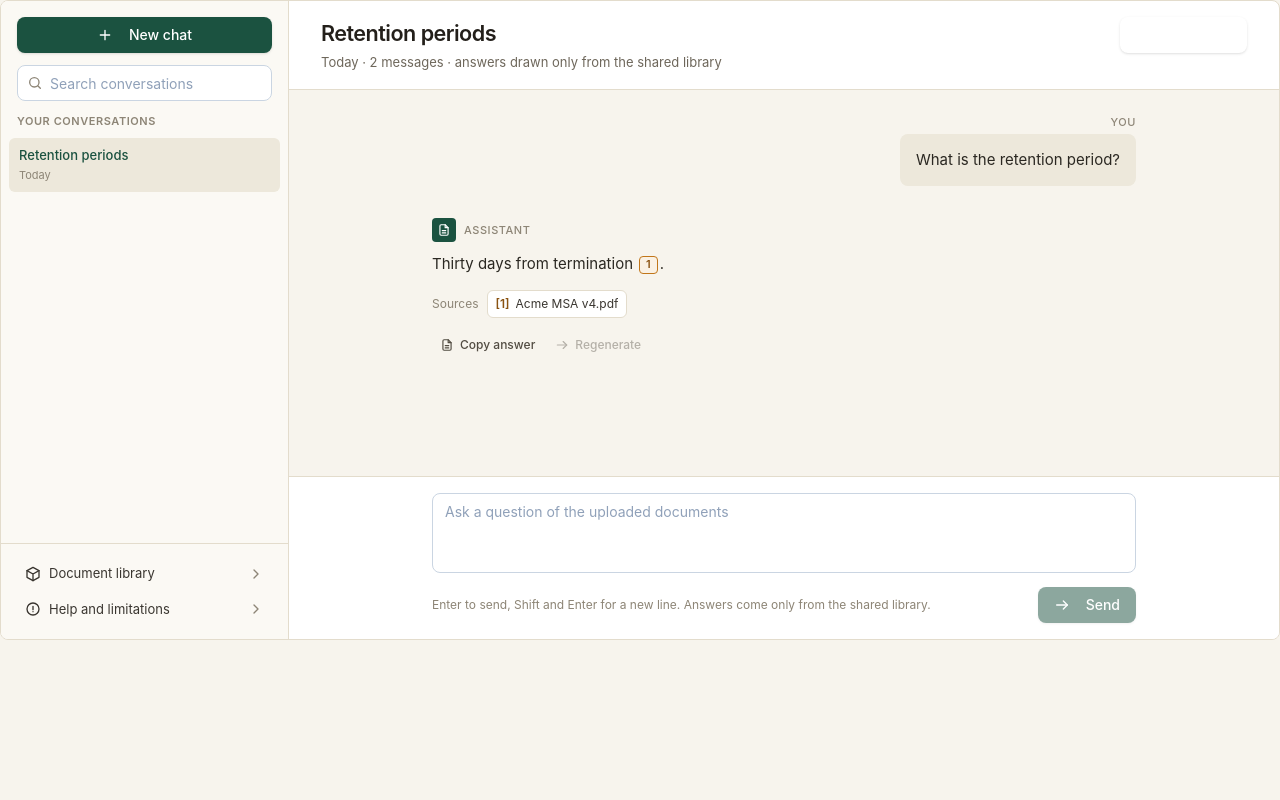
Test case: Chat screen › loads conversation history with citations from GET endpoints (persisted after reload)
This screenshot has width=1280, height=800.
Check: the text "What is the retention period?" is shown, box [900, 134, 1136, 186]
Check: the text "Thirty days from termination" is shown, box [432, 254, 637, 273]
Click the button named "Source 1: Acme MSA v4.pdf".
click(648, 265)  # box [639, 256, 658, 274]
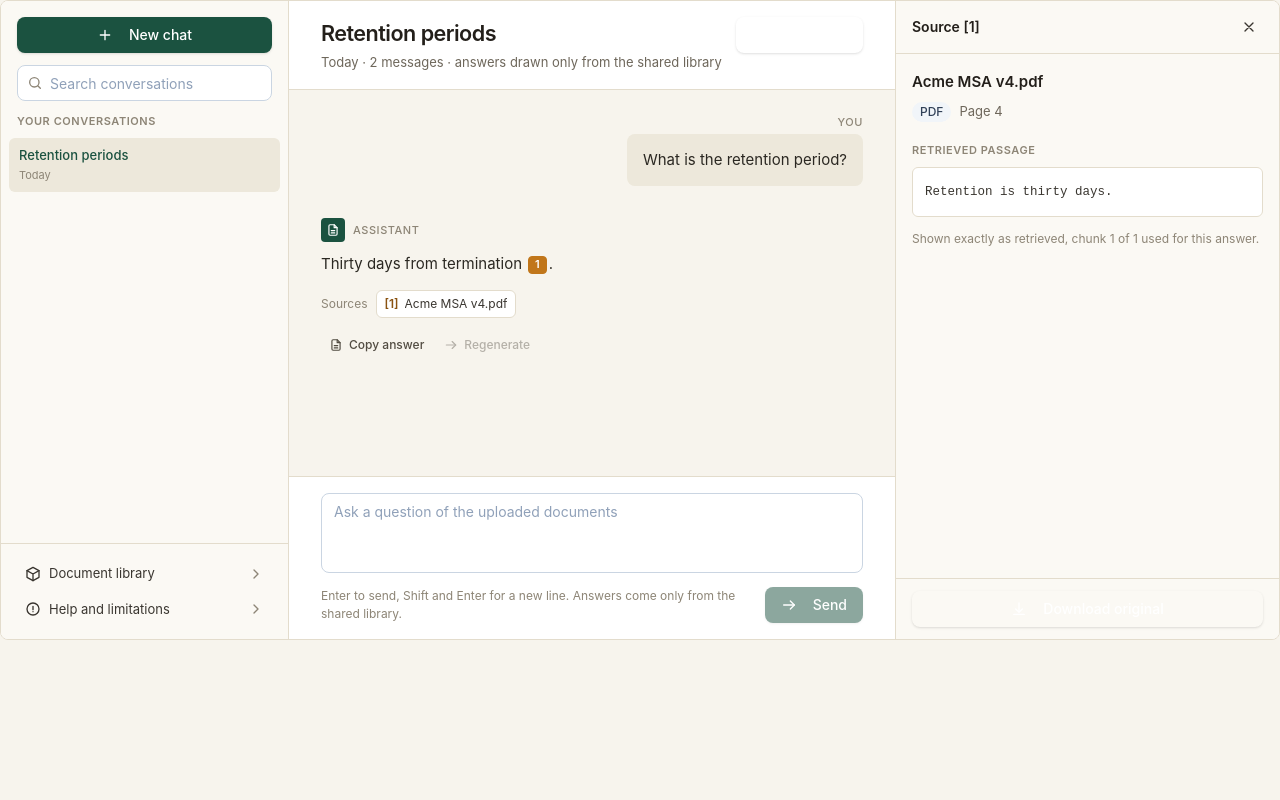
Check: the heading "Acme MSA v4.pdf" is shown, box [912, 72, 1043, 91]
Check: the text "Page 4" is shown, box [959, 102, 1003, 122]
Check: the text "Retention is thirty days." is shown, box [912, 166, 1263, 216]
